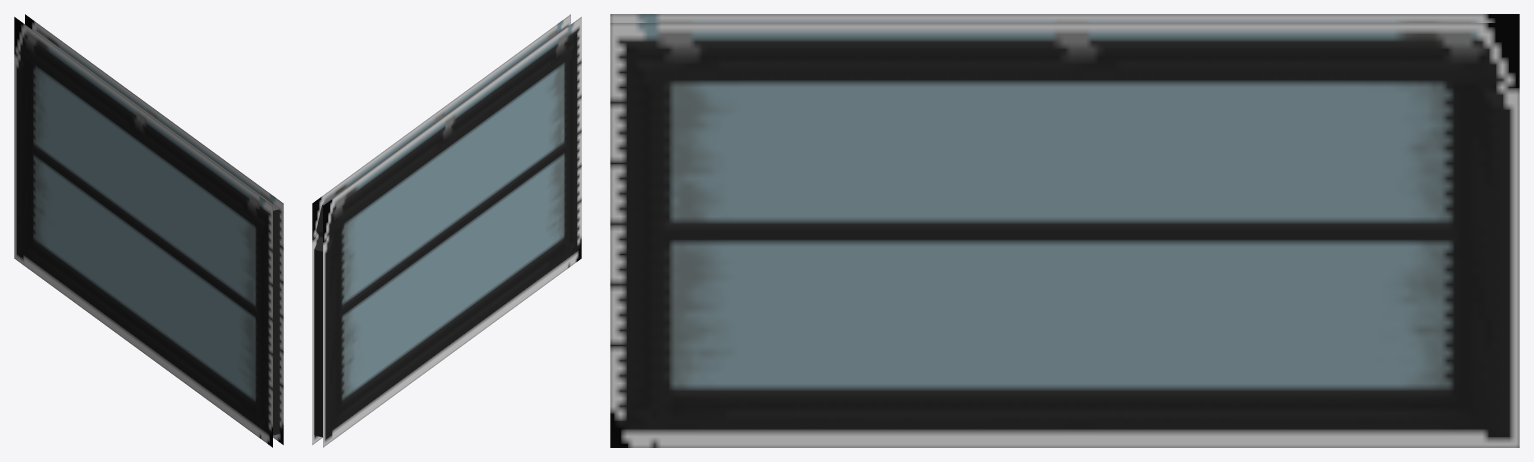
Rendered from pz_native_fixtures_windows_metal_10_frame.obj.
3 views of the same model, side by side, from view 1: azimuth 30°, elevation 25°; view 2: azimuth 150°, elevation 25°; view 3: azimuth 270°, elevation 25° (orthographic). The views are drawn at different scales.
Visible parts, largest first — view 1: pz_native_fixtures_windows_metal_10_frame; view 2: pz_native_fixtures_windows_metal_10_frame; view 3: pz_native_fixtures_windows_metal_10_frame.
Boxes of the visible parts, x1=… form: pz_native_fixtures_windows_metal_10_frame: x1=14, y1=14, x2=283, y2=447; pz_native_fixtures_windows_metal_10_frame: x1=312, y1=14, x2=581, y2=447; pz_native_fixtures_windows_metal_10_frame: x1=610, y1=14, x2=1519, y2=447.
Size of the model in its own units: 0.04 by 0.875 by 1.7.
Materials: 1 (1 with a texture image).
